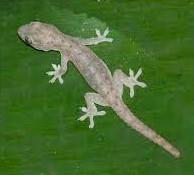lizard: (9, 17, 187, 159)
